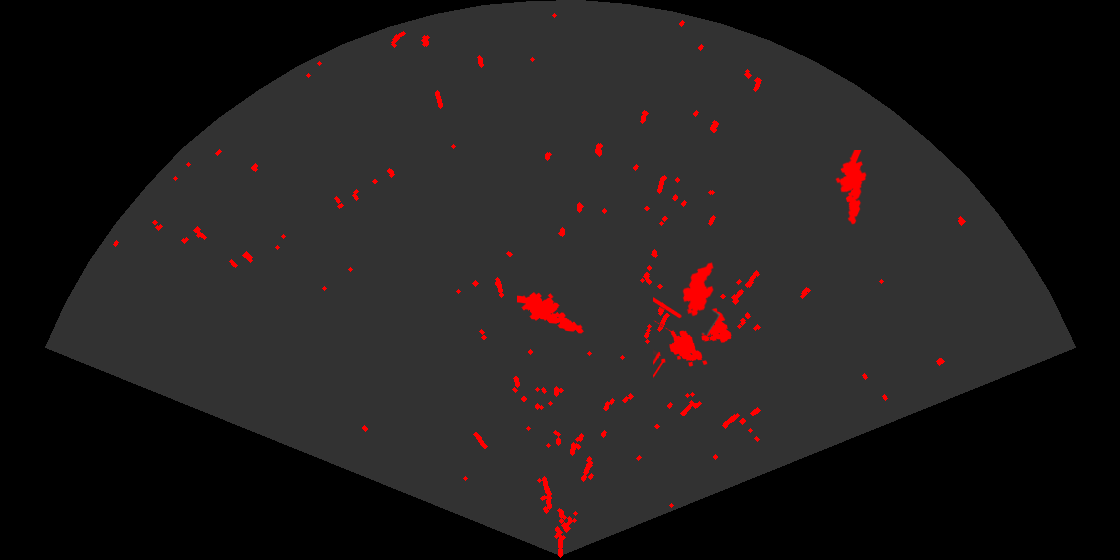AUV: (681, 260, 715, 318)
cage: (653, 296, 733, 379)
frogman: (517, 291, 585, 335), (834, 150, 868, 226)
